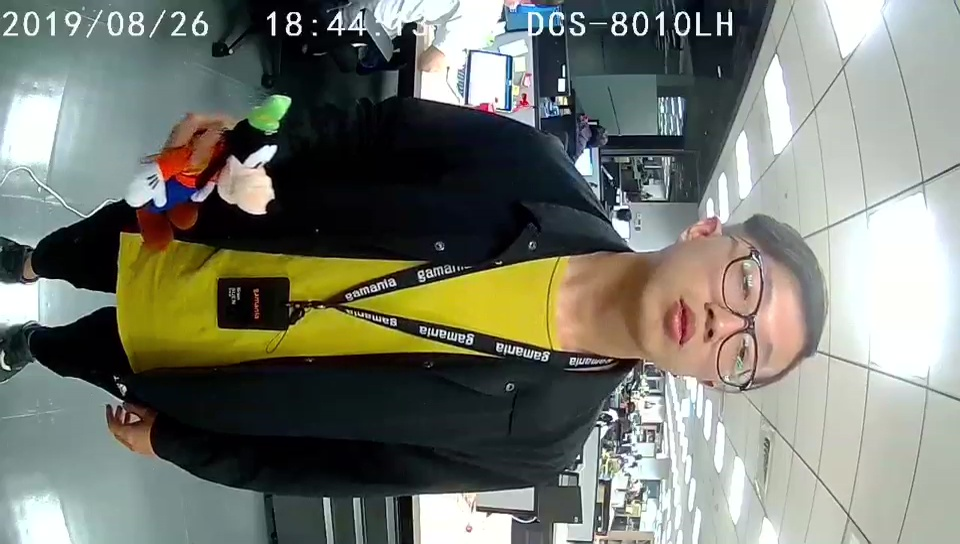goofy: (123, 91, 292, 255)
